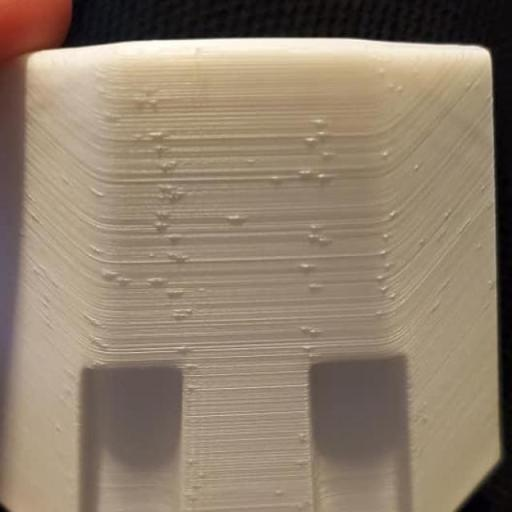blobs: (157, 182, 186, 203), (110, 274, 142, 290), (308, 226, 333, 246), (313, 164, 332, 188), (151, 218, 173, 236), (150, 128, 166, 152), (99, 111, 123, 125), (226, 212, 247, 226), (298, 259, 314, 277), (148, 91, 163, 110), (179, 342, 202, 354), (302, 324, 324, 336), (306, 280, 328, 292), (378, 244, 391, 264), (303, 130, 317, 148), (167, 286, 187, 297), (391, 282, 400, 299), (392, 86, 407, 96), (277, 483, 287, 497), (185, 454, 194, 468), (198, 468, 208, 480), (372, 68, 390, 74)
